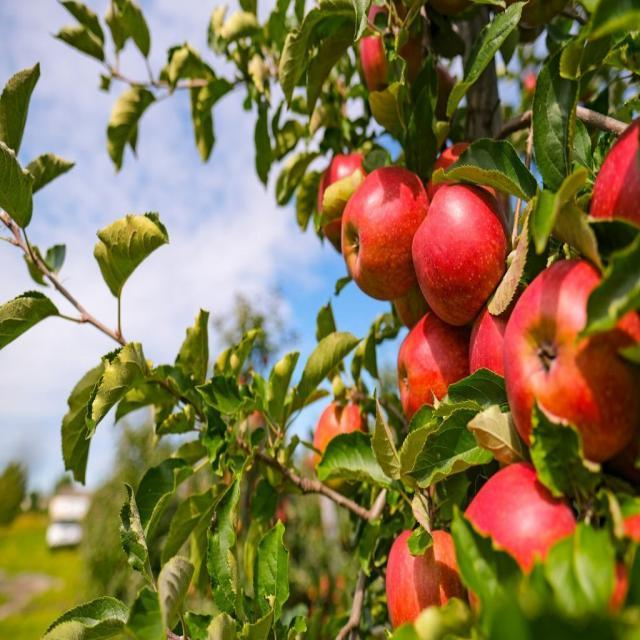Red Apple: (513, 266, 636, 444), (472, 462, 587, 621), (420, 182, 510, 313), (383, 525, 472, 640), (398, 306, 478, 433), (350, 164, 426, 293), (595, 121, 640, 277), (472, 297, 534, 398), (322, 152, 388, 244), (359, 6, 430, 88), (316, 398, 375, 483), (607, 514, 640, 598), (430, 142, 472, 186)
